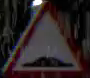Speed Breaker ahead: (5, 2, 89, 77)
